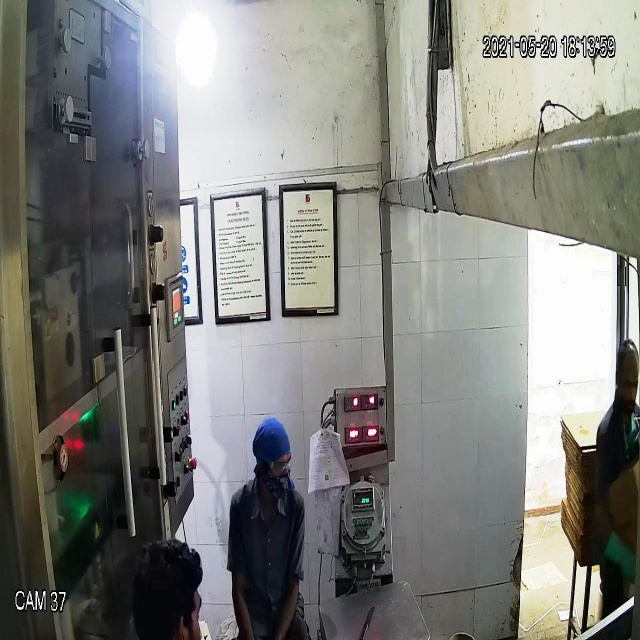Gafas: (255, 449, 294, 479)
